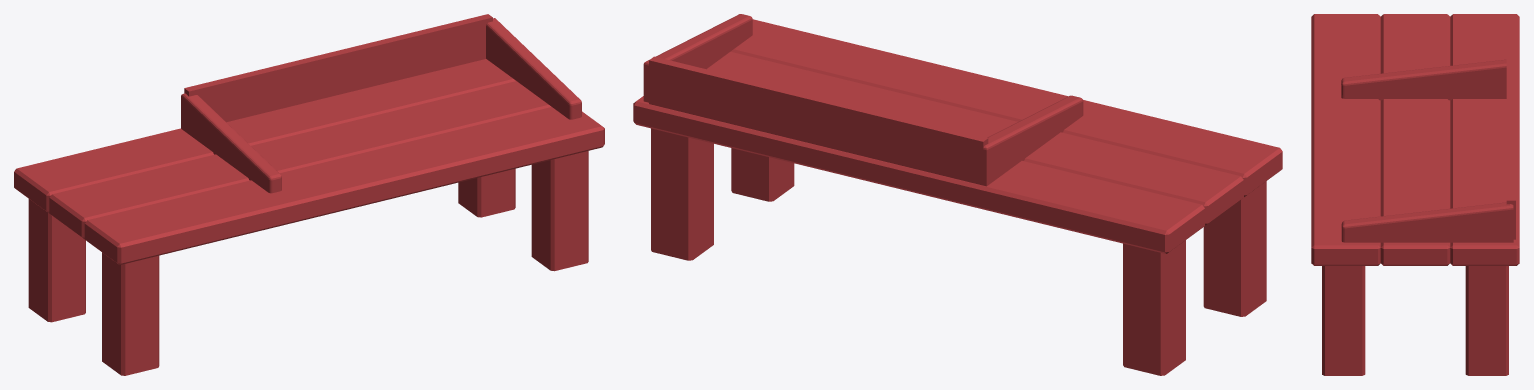
File: Table.fbx
3 views of the same model, side by side, from view 1: azimuth 30°, elevation 25°; view 2: azimuth 150°, elevation 25°; view 3: azimuth 270°, elevation 25° (orthographic). The views are drawn at different scales.
Visible parts, largest first — view 1: Table; view 2: Table; view 3: Table.
Part boxes in pixels (x1=…): Table: x1=14, y1=14, x2=604, y2=375; Table: x1=633, y1=14, x2=1282, y2=375; Table: x1=1311, y1=14, x2=1519, y2=375.
Size of the model in its own units: 235 by 81.61 by 88.62.
